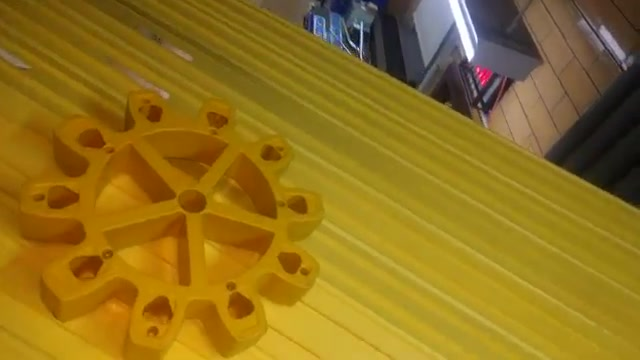gear: (23, 71, 330, 360)
